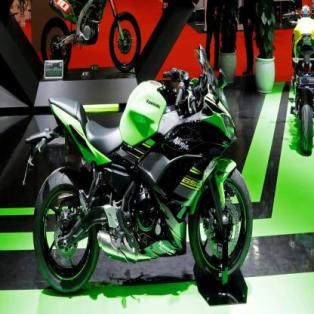Motocicleta: (23, 53, 253, 296), (284, 1, 314, 159)
